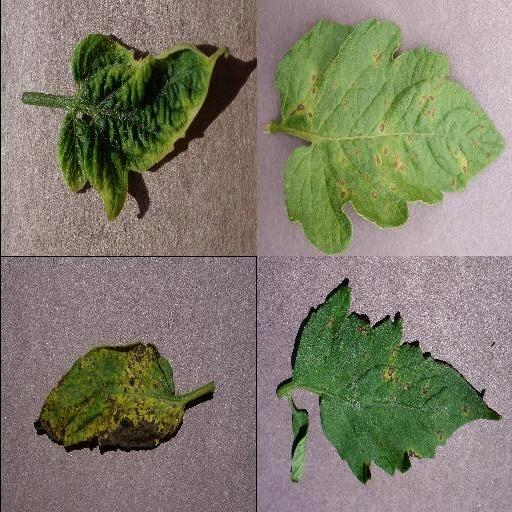Septoria: (274, 23, 506, 254), (292, 283, 502, 485), (34, 341, 184, 451)
Yellow Leaf Curl Virus: (58, 33, 230, 221)
